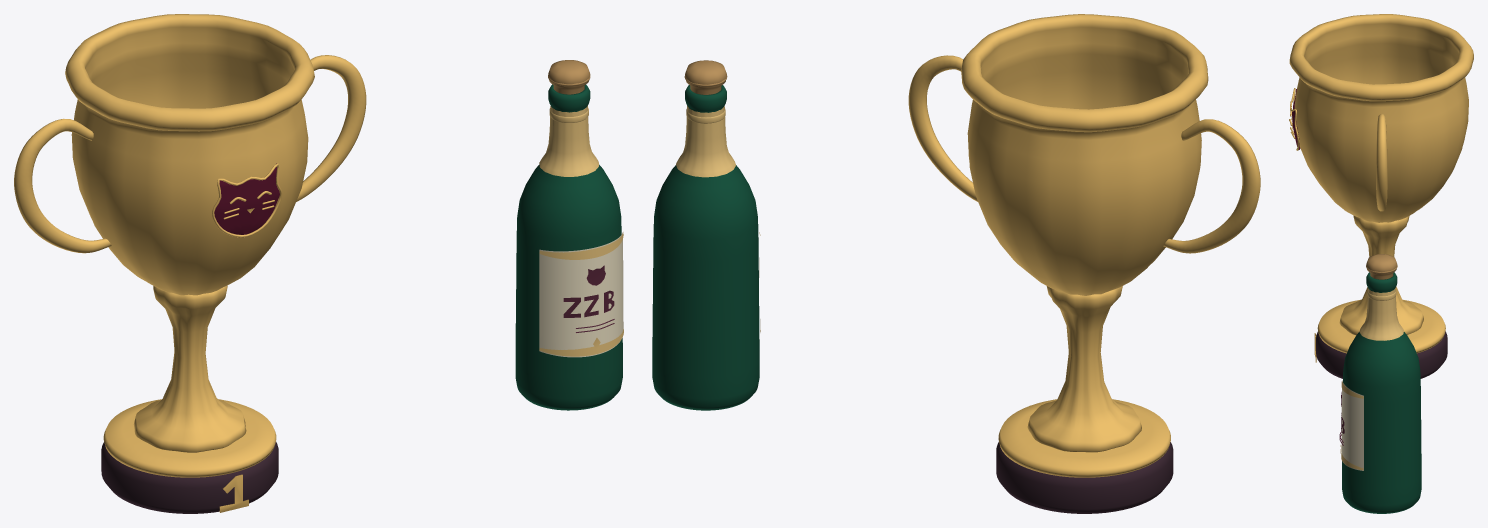
File: celebration-props-v6.glb
3 views of the same model, side by side, from view 1: azimuth 30°, elevation 25°; view 2: azimuth 150°, elevation 25°; view 3: azimuth 270°, elevation 25° (orthographic). The views are drawn at different scales.
Visible parts, largest first — view 1: trophy_WarmBrushedGold, bottle_DeepEmeraldGlass, bottle_WarmCottonLabel, trophy_PlumObsidianPedestal, bottle_EmbossedChampagneFoil, trophy_ChampionBurgundyEnamel, bottleCork_NaturalCork, bottle_BurgundyLabelInk; view 2: trophy_WarmBrushedGold, bottle_DeepEmeraldGlass, trophy_PlumObsidianPedestal, bottle_EmbossedChampagneFoil, bottleCork_NaturalCork; view 3: trophy_WarmBrushedGold, bottle_DeepEmeraldGlass, bottle_EmbossedChampagneFoil, bottle_WarmCottonLabel, trophy_PlumObsidianPedestal, bottleCork_NaturalCork.
Part boxes in pixels (bbox=[...]): trophy_WarmBrushedGold: bbox=[14, 14, 366, 512]; bottle_DeepEmeraldGlass: bbox=[515, 84, 622, 410]; bottle_WarmCottonLabel: bbox=[539, 232, 623, 357]; trophy_PlumObsidianPedestal: bbox=[101, 442, 278, 513]; bottle_EmbossedChampagneFoil: bbox=[539, 105, 623, 356]; trophy_ChampionBurgundyEnamel: bbox=[214, 163, 279, 234]; bottleCork_NaturalCork: bbox=[548, 60, 590, 94]; bottle_BurgundyLabelInk: bbox=[563, 265, 614, 332]; trophy_WarmBrushedGold: bbox=[908, 14, 1260, 477]; bottle_DeepEmeraldGlass: bbox=[652, 85, 759, 410]; trophy_PlumObsidianPedestal: bbox=[996, 442, 1173, 513]; bottle_EmbossedChampagneFoil: bbox=[676, 105, 760, 331]; bottleCork_NaturalCork: bbox=[684, 60, 727, 94]; trophy_WarmBrushedGold: bbox=[1289, 14, 1473, 362]; bottle_DeepEmeraldGlass: bbox=[1342, 272, 1421, 513]; bottle_EmbossedChampagneFoil: bbox=[1340, 288, 1403, 470]; bottle_WarmCottonLabel: bbox=[1341, 380, 1363, 470]; trophy_PlumObsidianPedestal: bbox=[1316, 331, 1447, 378]; bottleCork_NaturalCork: bbox=[1366, 254, 1397, 279].
Size of the model in its own units: 0.6263 by 0.419 by 0.225.
